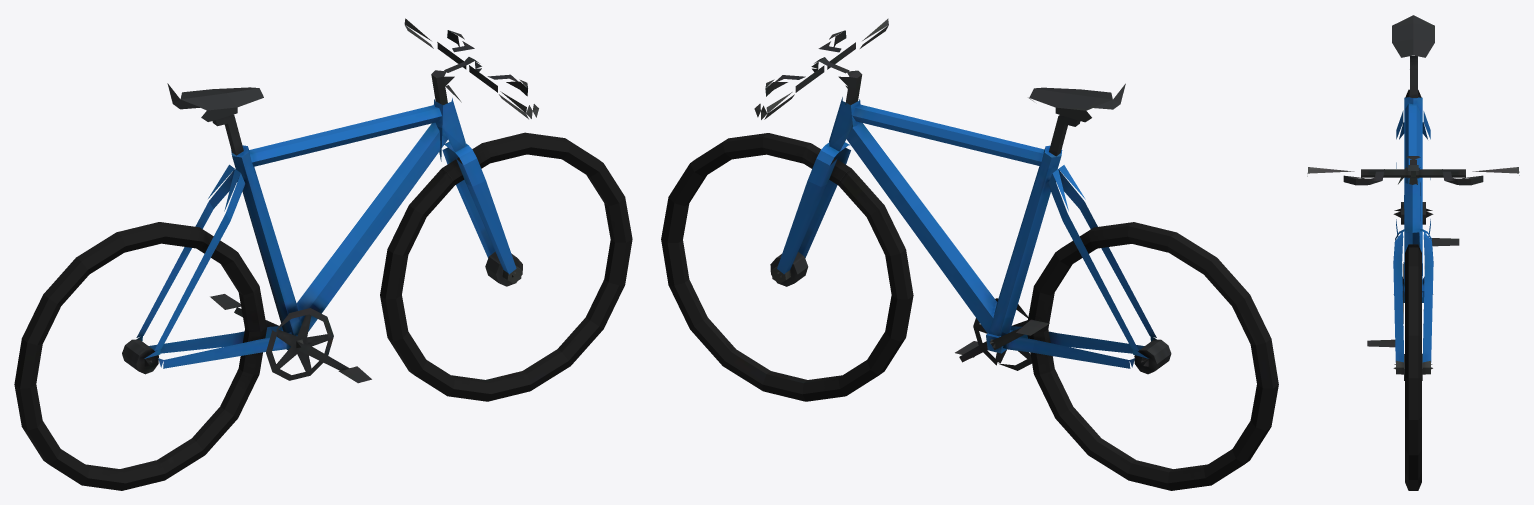
Rendered from bicycle.glb.
3 views of the same model, side by side, from view 1: azimuth 30°, elevation 25°; view 2: azimuth 150°, elevation 25°; view 3: azimuth 270°, elevation 25° (orthographic). The views are drawn at different scales.
Visible parts, largest first — view 1: Bike_mesh; view 2: Bike_mesh; view 3: Bike_mesh.
Boxes of the visible parts, box(x1,y1,x2,y2) form: Bike_mesh: box(14, 18, 632, 490); Bike_mesh: box(661, 18, 1278, 490); Bike_mesh: box(1307, 15, 1519, 490).
Size of the model in its own units: 1.8 by 1.06 by 0.6241.
Materials: 1 (1 with a texture image).
